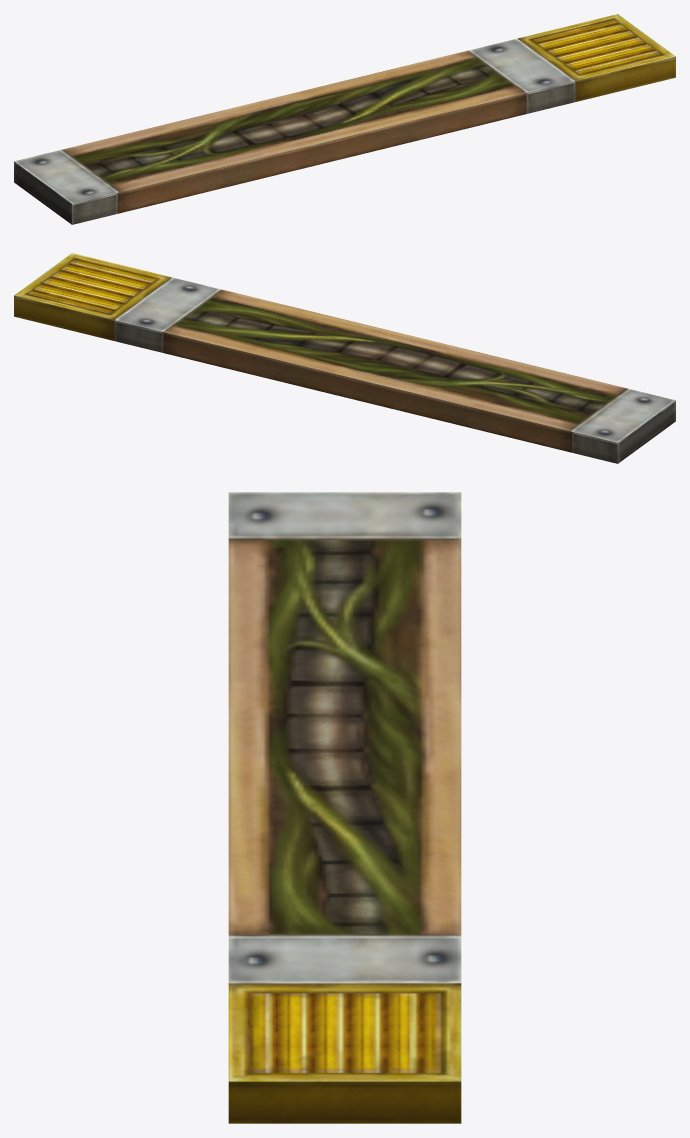
File: a_SWAhose01.glb
3 renders of one model, top to bottom at view 1: azimuth 30°, elevation 25°; view 2: azimuth 150°, elevation 25°; view 3: azimuth 270°, elevation 25°, orthographic. The views are drawn at different scales.
Parts seen in each view (by area): view 1: a_SWAhose01; view 2: a_SWAhose01; view 3: a_SWAhose01.
Part boxes in pixels (x1,y1,x2,y2): a_SWAhose01: (14,14,675,224); a_SWAhose01: (14,253,675,463); a_SWAhose01: (228,492,461,1123).
Size of the model in its own units: 3 by 0.1 by 0.5004.
Materials: 1 (1 with a texture image).
